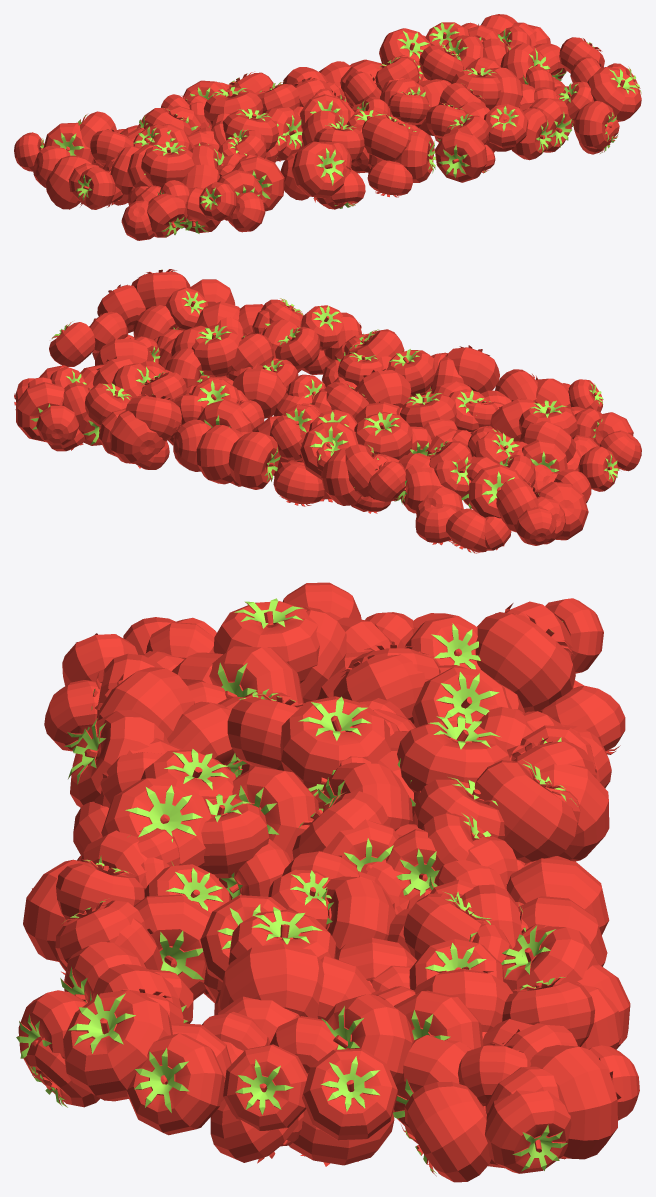
Rendered from tomato2.fbx.
3 views of the same model, one above another, from view 1: azimuth 30°, elevation 25°; view 2: azimuth 150°, elevation 25°; view 3: azimuth 270°, elevation 25° (orthographic). The views are drawn at different scales.
Visible parts, largest first — view 1: Tomato_01.156; view 2: Tomato_01.156; view 3: Tomato_01.156.
Part boxes in pixels (x1=…): Tomato_01.156: x1=14, y1=14, x2=641, y2=240; Tomato_01.156: x1=14, y1=269, x2=641, y2=553; Tomato_01.156: x1=16, y1=582, x2=639, y2=1182.
Size of the model in its own units: 1002 by 166 by 510.
